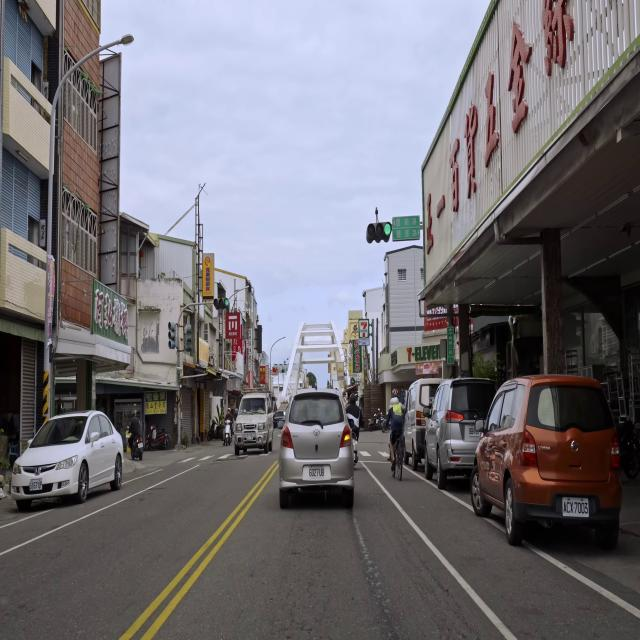green light: (367, 222, 392, 237), (213, 298, 229, 308)
